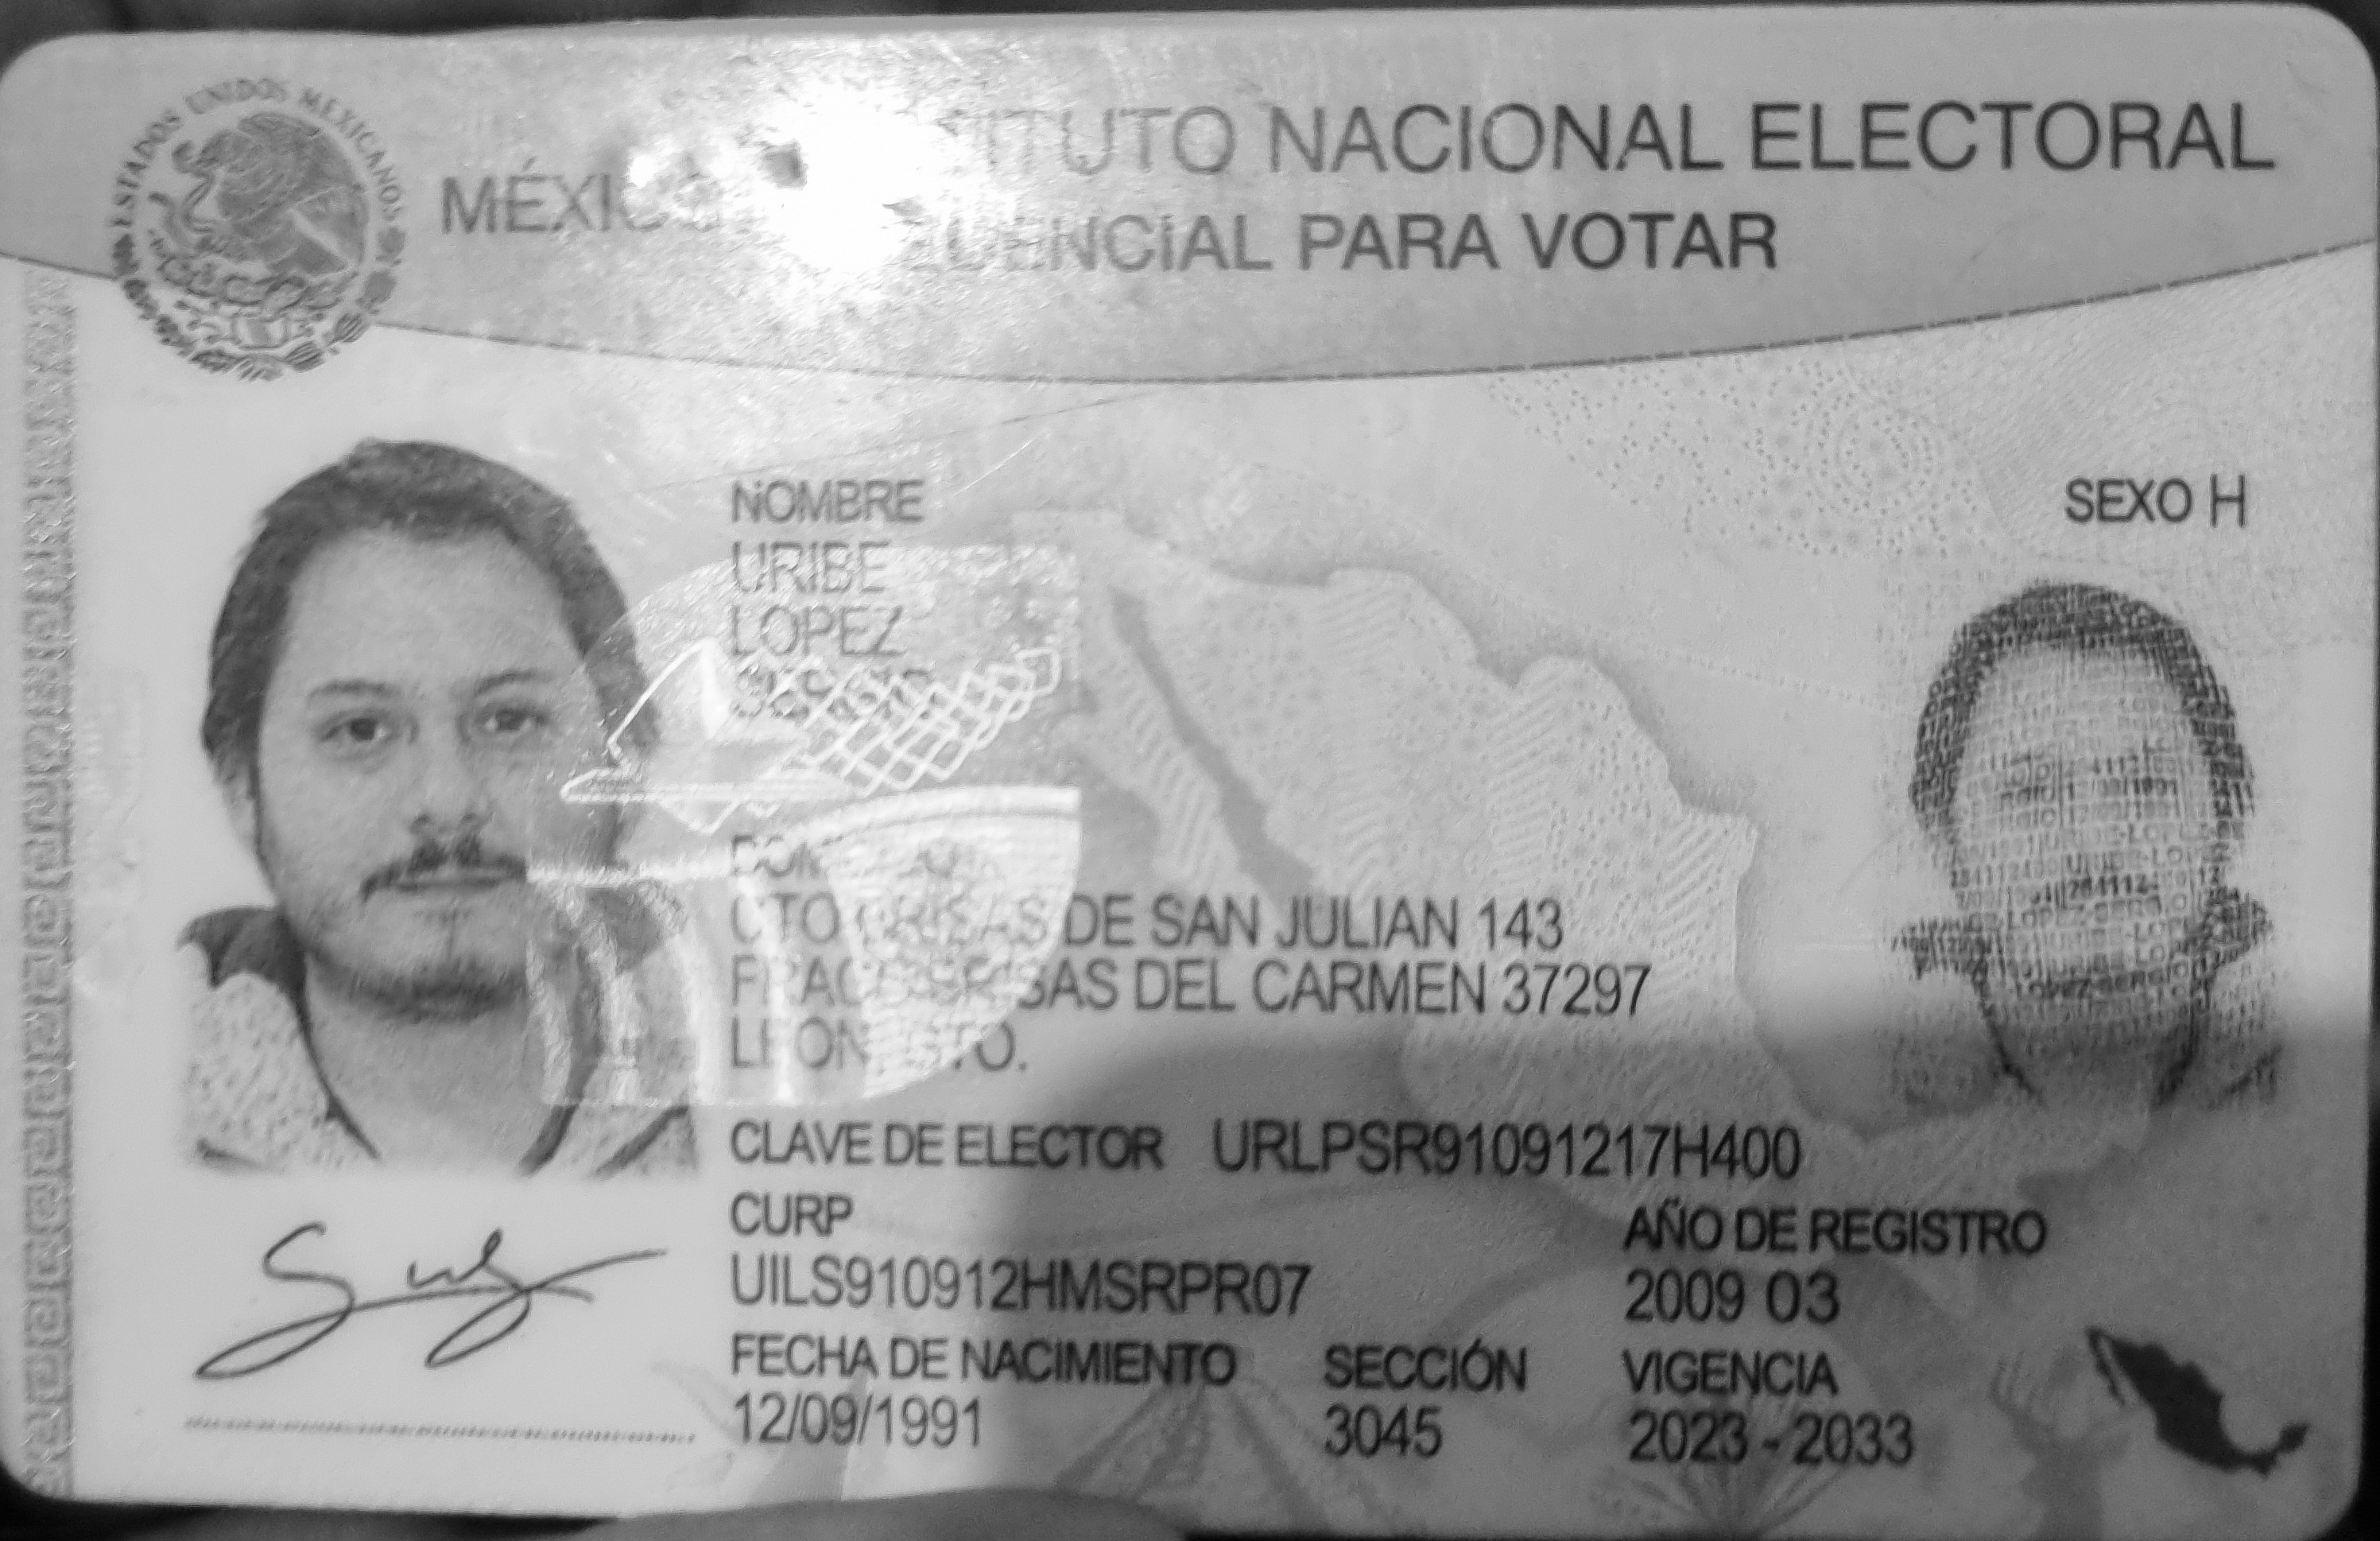ESCUDO: (109, 78, 409, 380)
MAPA: (2082, 1322, 2312, 1479)
PALABRA: (1752, 101, 2278, 172)
